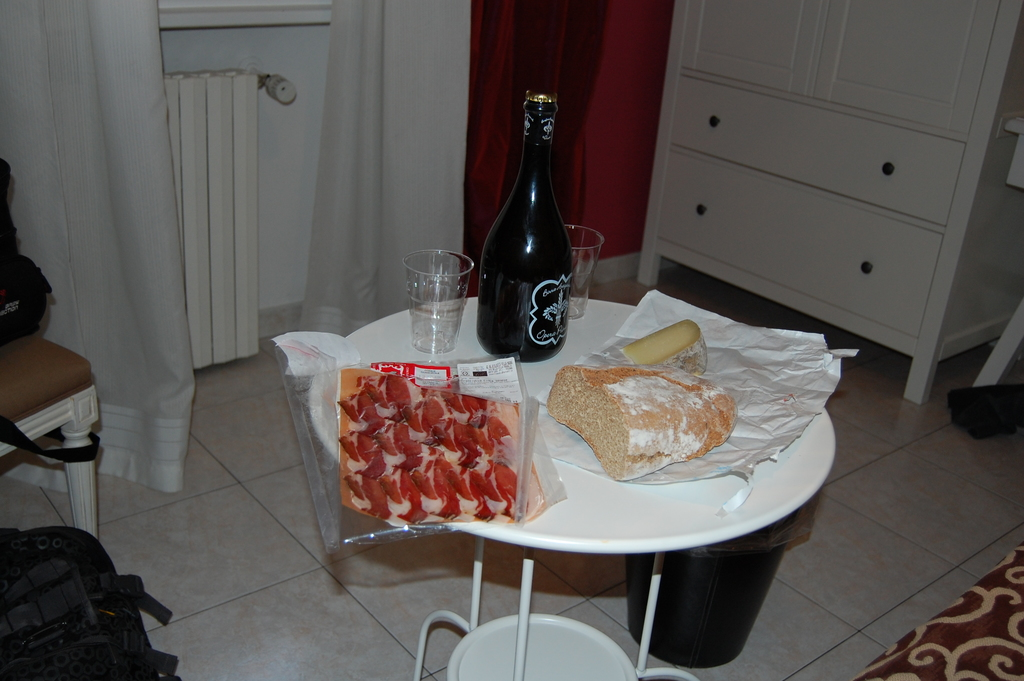Table: (304, 294, 838, 680)
